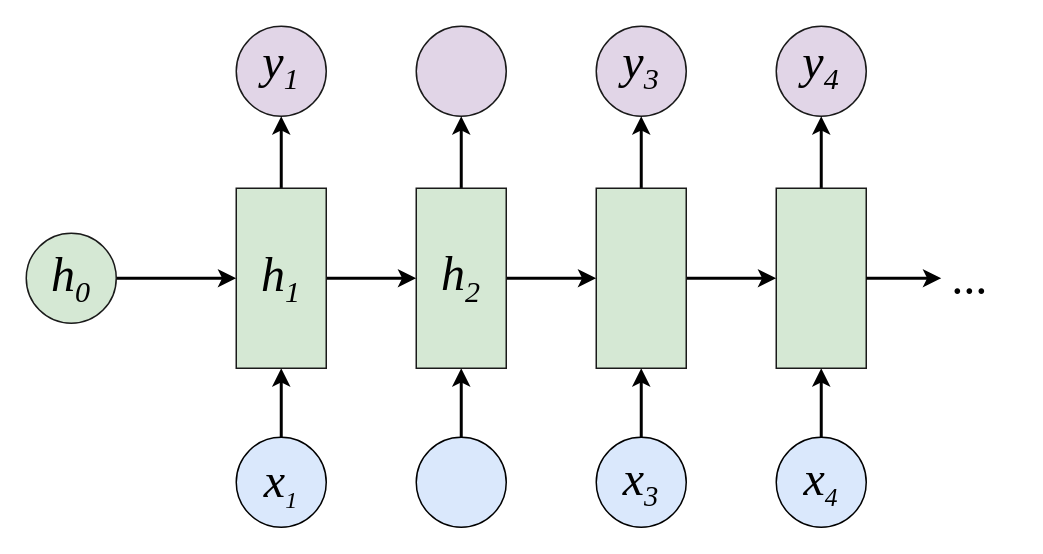
This 1043x554 diagram has some shape labels left out. Here are the shapes that lost their labels. From the top down, the centre of each, then its label:
the point at 460,70: y 2
the point at 640,277: h 3
the point at 820,277: h 4
the point at 460,481: x 2
